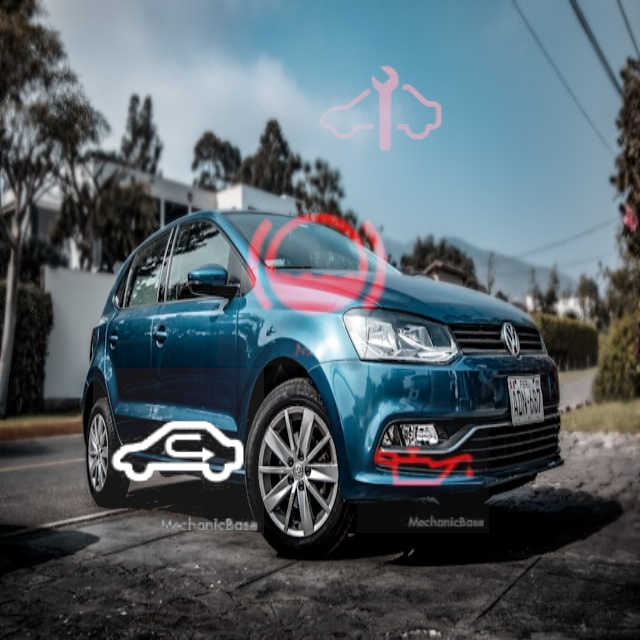symbol: (217, 167, 416, 366), (93, 368, 264, 539), (298, 29, 461, 192), (357, 401, 489, 533)
